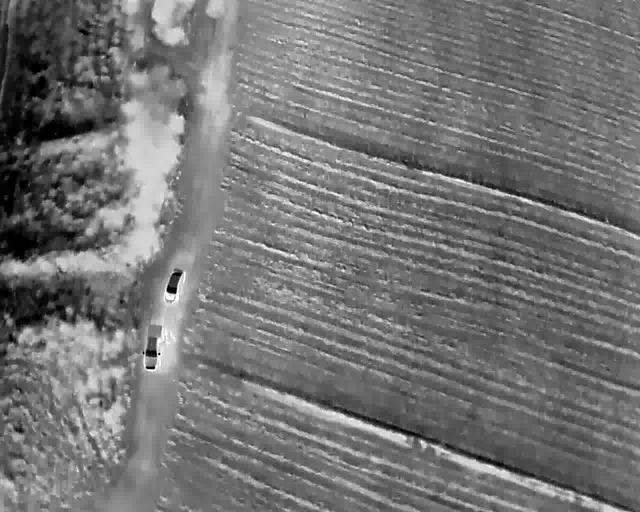car: (144, 324, 161, 371), (165, 266, 183, 305)
